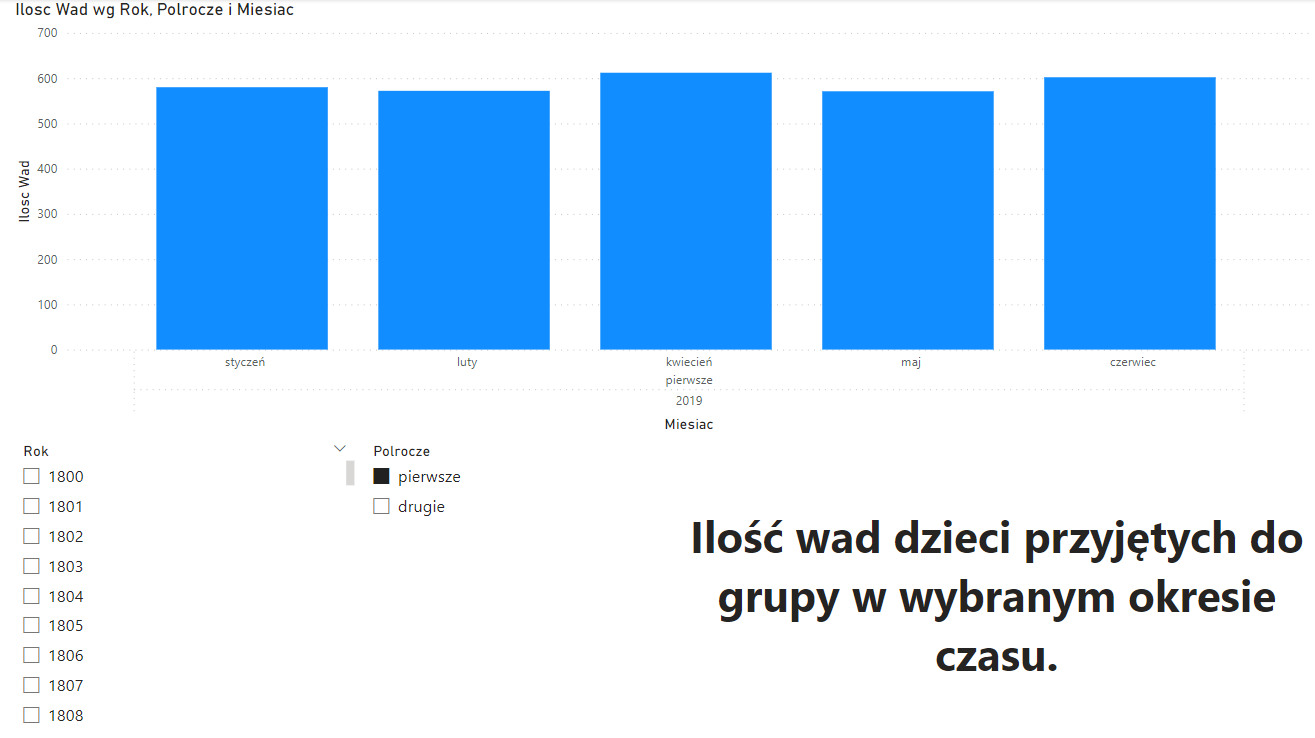

What the dashboard file says about the page in this screenshot:
{"tool":"powerbi","page":{"name":"Strona 5","canvas":[1280,720],"ordinal":5},"visuals":[{"type":"slicer","fields":{"Values":["Data Dolaczenia.Rok"]},"box":[10,426,340,294],"z":0},{"type":"slicer","fields":{"Values":["Data Dolaczenia.Polrocze"]},"box":[350,426,241,294],"z":1000},{"type":"columnChart","fields":{"Category":["Data Dolaczenia.Hierarchia Czasu.Rok","Data Dolaczenia.Hierarchia Czasu.Polrocze","Data Dolaczenia.Hierarchia Czasu.Miesiac"],"Y":["Podzial Grup FAKT.Ilosc Wad"]},"box":[10,0,1270,426],"z":2000},{"type":"textbox","box":[658,488,622,232],"z":3000}]}

Visuals, with their boxes in screenshot pixels (x1, y1, x2, y2), scaled from the page's 1280x720 canvas onto the 1315x738 screenshot:
slicer - Data Dolaczenia.Rok: [10, 437, 360, 737]
slicer - Data Dolaczenia.Polrocze: [360, 437, 607, 737]
columnChart - Data Dolaczenia.Hierarchia Czasu.Rok x Data Dolaczenia.Hierarchia Czasu.Polrocze: [10, 0, 1314, 437]
textbox: [676, 500, 1314, 737]
